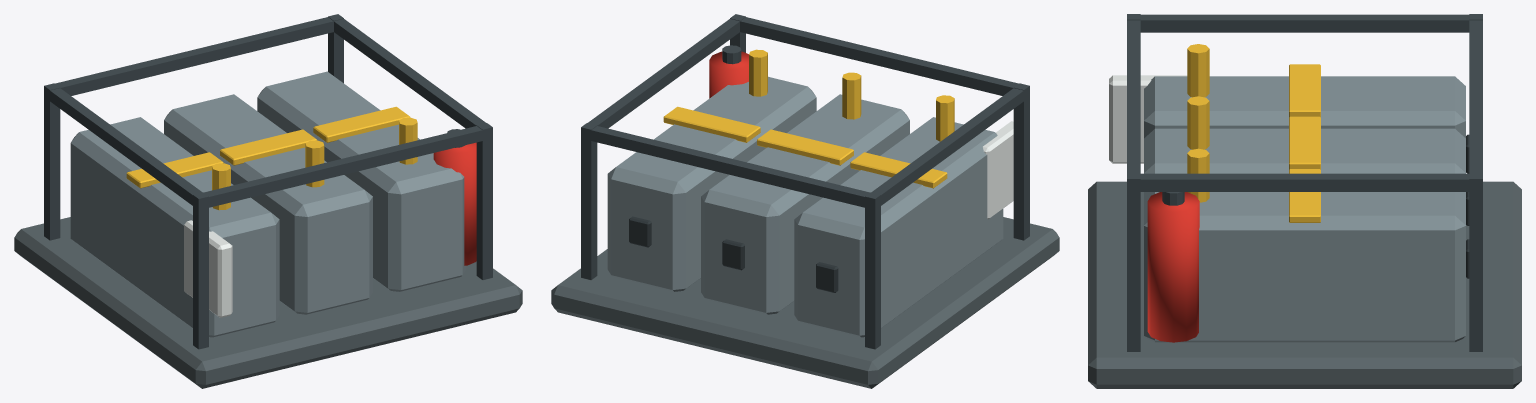
Rendered from MOD_Magazine_U1.fbx.
3 renders of one model, left to right at view 1: azimuth 30°, elevation 25°; view 2: azimuth 150°, elevation 25°; view 3: azimuth 270°, elevation 25°, orthographic. The views are drawn at different scales.
Visible parts, largest first — view 1: ModuleDeck, AmmoCrate_01, AmmoCrate_02, AmmoCrate_03, U1 rack crossbar, U1 rack crossbar.001, U1 rack siderail, U1 rack siderail.001, U1 inventory panel, U1 rack post.002, U1 rack post.001, U1 rack post (+8 smaller); view 2: ModuleDeck, AmmoCrate_01, AmmoCrate_02, AmmoCrate_03, U1 rack crossbar.001, U1 rack crossbar, U1 rack siderail, U1 rack siderail.001, U1 rack post.003, U1 rack post.001, U1 rack post, U1 inventory panel (+10 smaller); view 3: AmmoCrate_03, ModuleDeck, AmmoCrate_01, AmmoCrate_02, U1 extinguisher bottle, U1 rack siderail.001, U1 rack siderail, U1 rack post.002, U1 rack post.003, U1 rack crossbar, U1 rack crossbar.001, U1 inventory panel (+6 smaller).
Part boxes in pixels (x1,y1,x2,y2): ModuleDeck: (14, 217, 522, 388); AmmoCrate_01: (70, 117, 279, 337); AmmoCrate_02: (164, 94, 372, 314); AmmoCrate_03: (257, 71, 466, 291); U1 rack crossbar: (204, 126, 485, 208); U1 rack crossbar.001: (55, 17, 333, 95); U1 rack siderail: (47, 88, 201, 205); U1 rack siderail.001: (334, 19, 485, 128); U1 inventory panel: (184, 220, 232, 317); U1 rack post.002: (476, 123, 492, 279); U1 rack post.001: (44, 83, 60, 240); U1 rack post: (193, 192, 208, 349); ModuleDeck: (551, 217, 1059, 388); AmmoCrate_01: (794, 117, 1003, 337); AmmoCrate_02: (701, 94, 909, 314); AmmoCrate_03: (607, 76, 816, 291); U1 rack crossbar.001: (586, 126, 869, 208); U1 rack crossbar: (740, 17, 1018, 95); U1 rack siderail: (872, 88, 1026, 205); U1 rack siderail.001: (588, 19, 739, 128); U1 rack post.003: (581, 123, 597, 279); U1 rack post.001: (865, 192, 880, 349); U1 rack post: (1013, 83, 1029, 240); U1 inventory panel: (983, 121, 1013, 219); AmmoCrate_03: (1144, 192, 1465, 342); ModuleDeck: (1088, 181, 1521, 388); AmmoCrate_01: (1144, 76, 1465, 138); AmmoCrate_02: (1144, 128, 1465, 173); U1 extinguisher bottle: (1147, 192, 1199, 342); U1 rack siderail.001: (1134, 173, 1475, 191); U1 rack siderail: (1140, 14, 1469, 32); U1 rack post.002: (1127, 173, 1140, 351); U1 rack post.003: (1469, 173, 1482, 351); U1 rack crossbar: (1127, 20, 1140, 173); U1 rack crossbar.001: (1469, 20, 1482, 173); U1 inventory panel: (1109, 75, 1187, 163).
Size of the model in its own units: 175 by 91 by 175.
